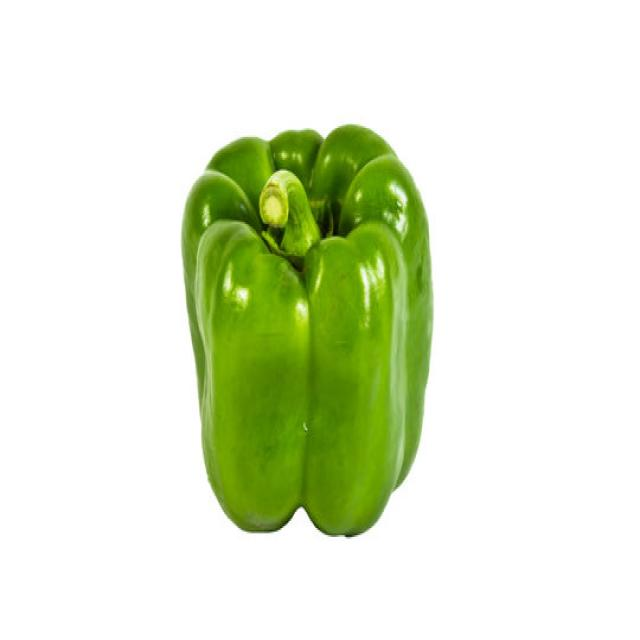Bell Pepper: (179, 124, 433, 540)
